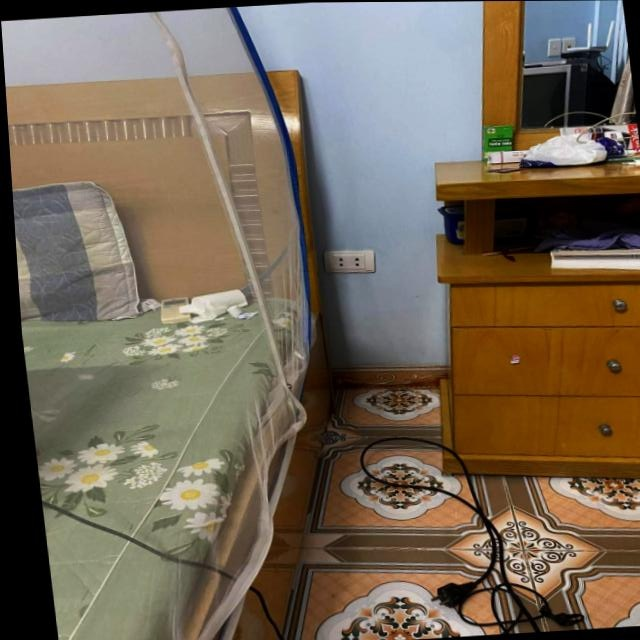outlet: (323, 247, 377, 275)
